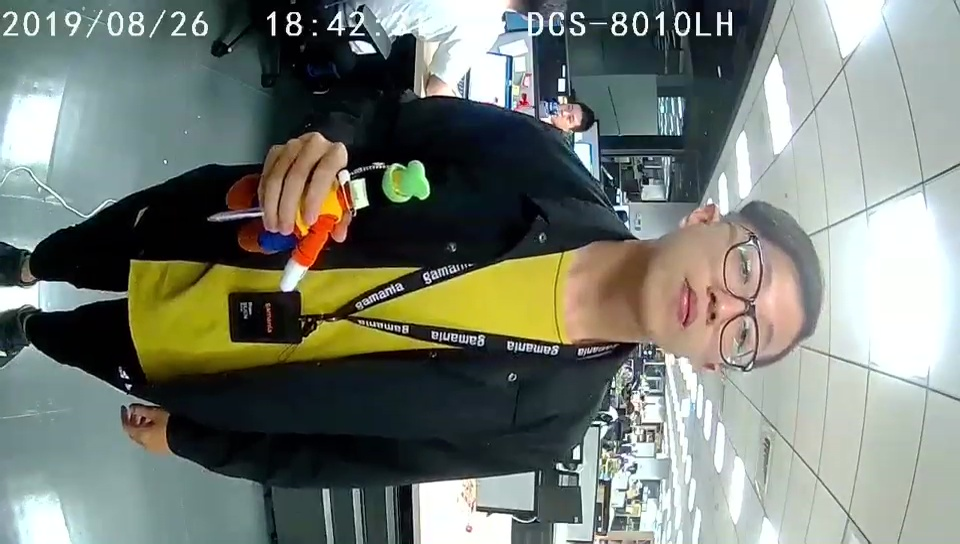goofy: (226, 161, 433, 294)
